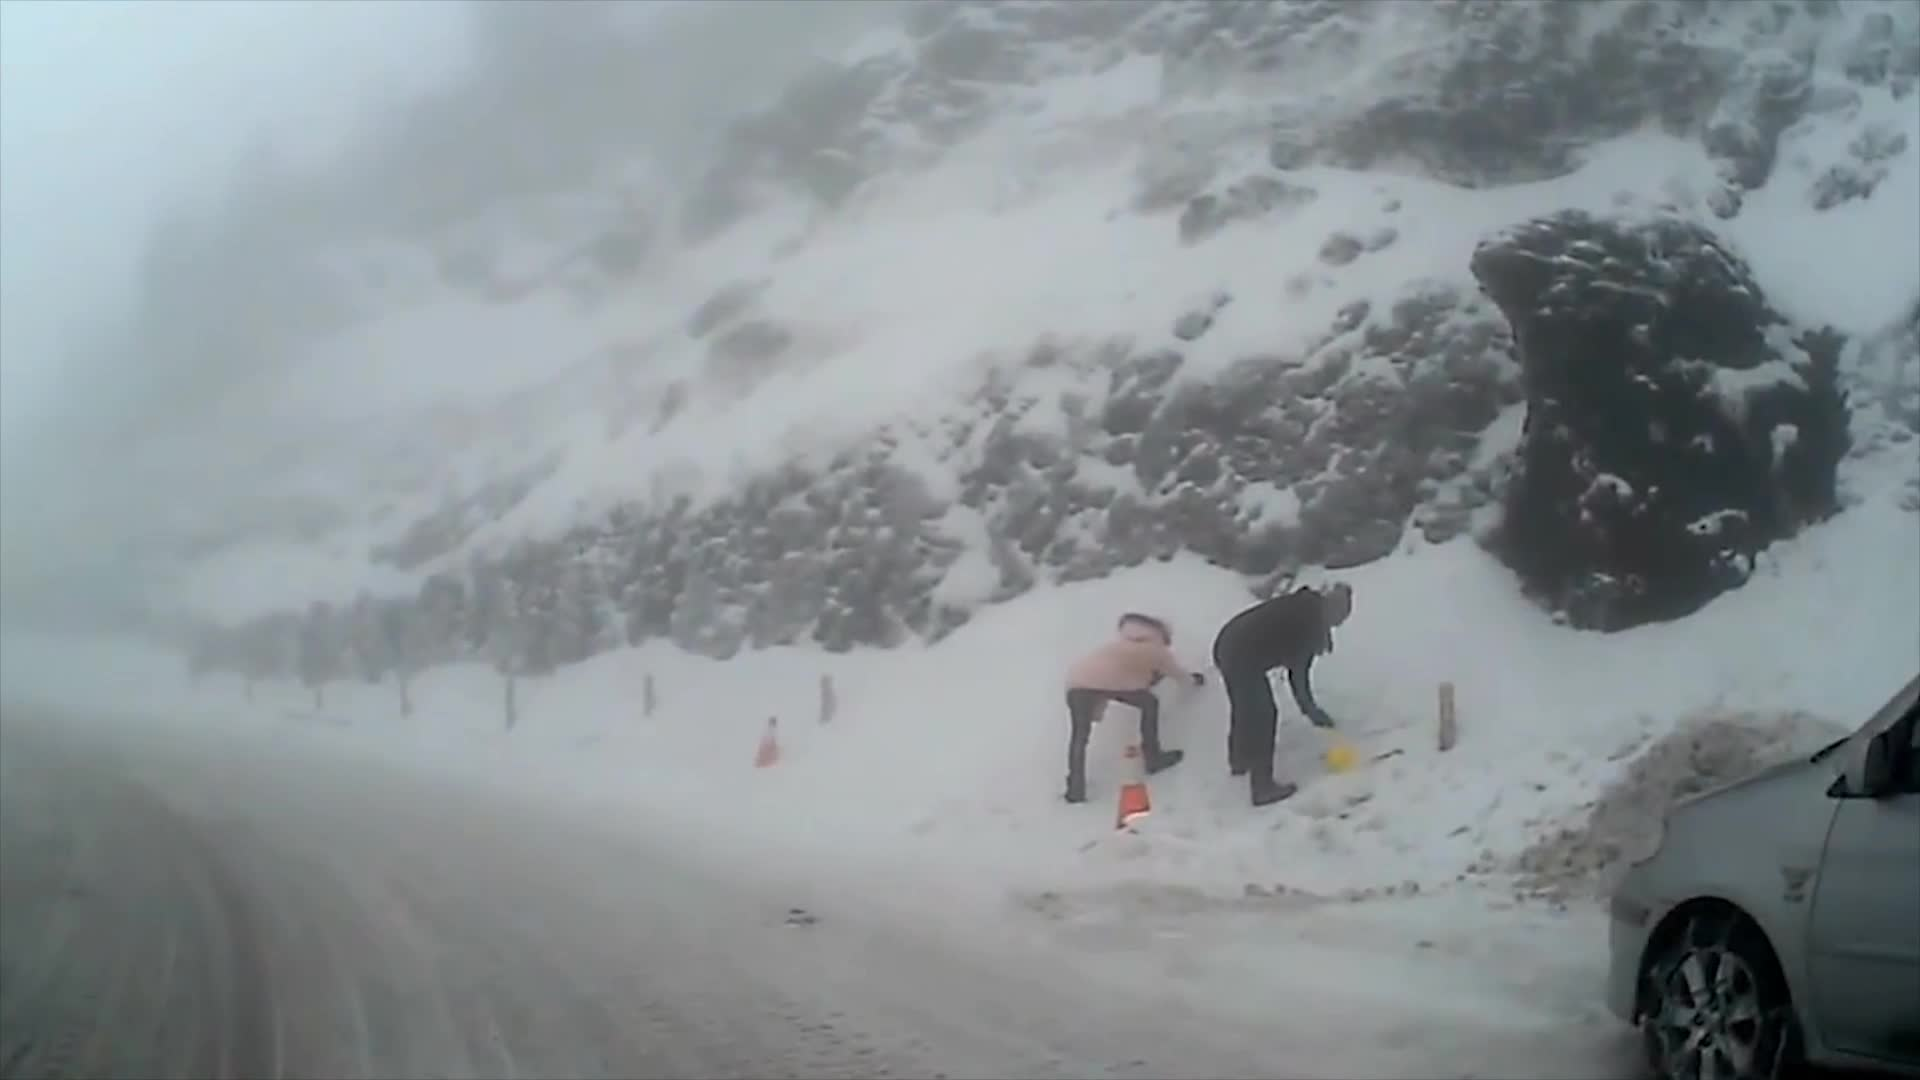pedestrian: (1213, 583, 1355, 808), (1060, 609, 1210, 806)
vehicle: (1602, 669, 1920, 1077)
